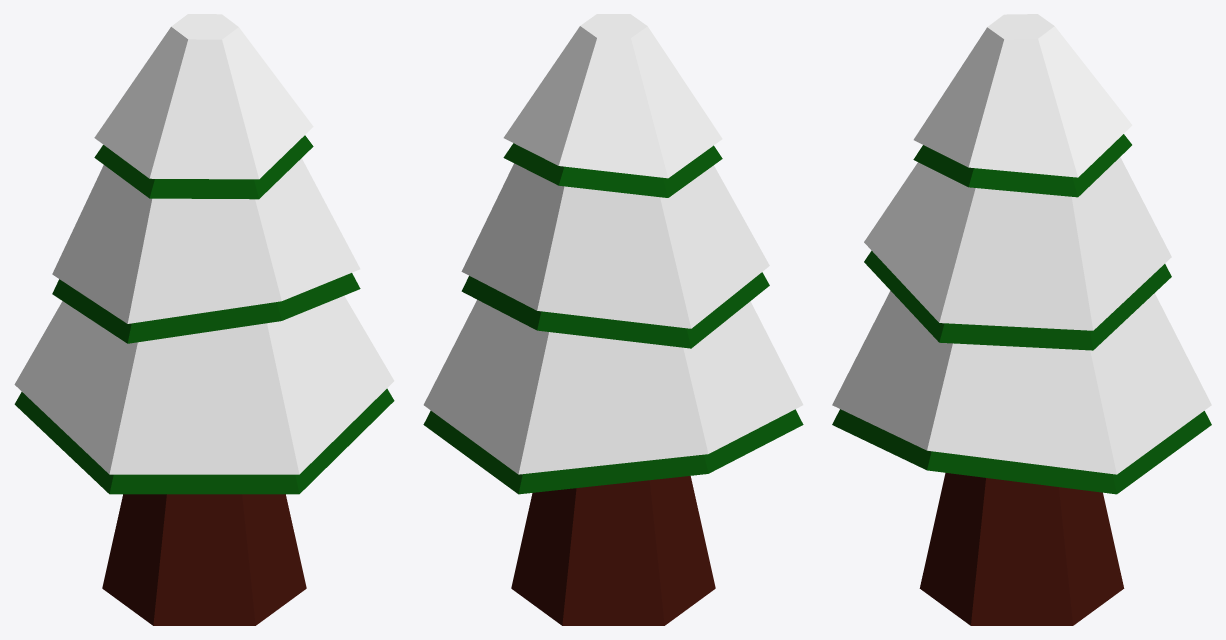
The model's file is tree_smol_snowy.obj.
The picture shows the model from 3 angles, left to right: view 1: azimuth 30°, elevation 25°; view 2: azimuth 150°, elevation 25°; view 3: azimuth 270°, elevation 25°; orthographic projection.
Visible parts, largest first — view 1: Cylinder.006, Cylinder.005, Cylinder.004, Cylinder, Cylinder.001, Cylinder.002, Cylinder.003; view 2: Cylinder.006, Cylinder.005, Cylinder, Cylinder.004, Cylinder.001, Cylinder.002, Cylinder.003; view 3: Cylinder.006, Cylinder.005, Cylinder, Cylinder.004, Cylinder.001, Cylinder.002, Cylinder.003.
Boxes of the visible parts, x1,y1,x2,y2 form: Cylinder.006: [14, 296, 394, 474]; Cylinder.005: [52, 158, 360, 323]; Cylinder.004: [94, 14, 313, 179]; Cylinder: [102, 494, 306, 625]; Cylinder.001: [14, 388, 394, 494]; Cylinder.002: [52, 273, 360, 343]; Cylinder.003: [94, 135, 313, 199]; Cylinder.006: [423, 299, 803, 474]; Cylinder.005: [461, 163, 769, 328]; Cylinder: [511, 476, 715, 625]; Cylinder.004: [503, 14, 722, 178]; Cylinder.001: [423, 409, 803, 494]; Cylinder.002: [461, 272, 769, 348]; Cylinder.003: [503, 143, 722, 197]; Cylinder.006: [832, 291, 1211, 474]; Cylinder.005: [864, 157, 1171, 330]; Cylinder: [919, 472, 1124, 625]; Cylinder.004: [913, 14, 1132, 177]; Cylinder.001: [832, 409, 1211, 494]; Cylinder.002: [864, 250, 1171, 350]; Cylinder.003: [913, 134, 1131, 197].
Size of the model in its own units: 1.56 by 2.94 by 1.8.
